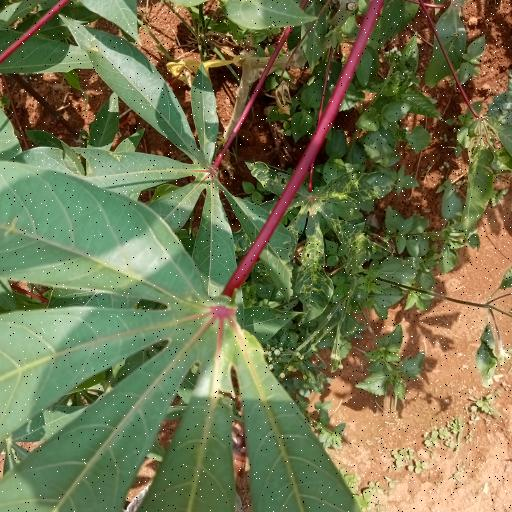Cassava_Healthy: (0, 170, 350, 512), (40, 19, 234, 304)
